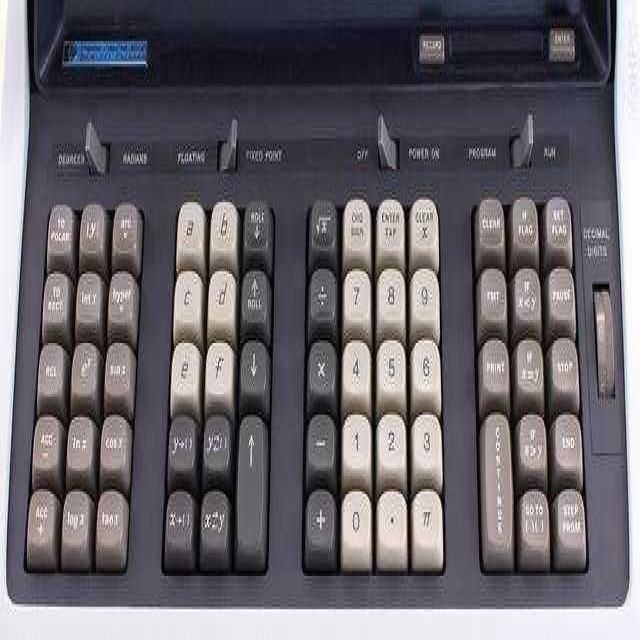Calculator: (3, 0, 633, 614)
